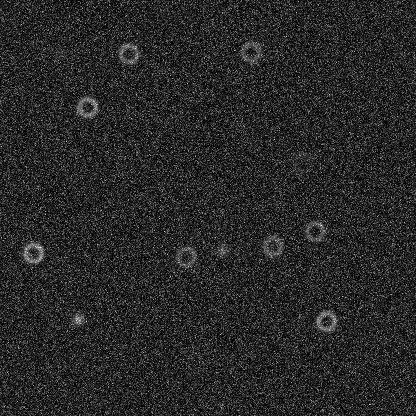Ring: (75, 94, 99, 118), (238, 39, 262, 63), (116, 41, 140, 65), (173, 244, 197, 268), (21, 240, 45, 264), (314, 309, 338, 333), (302, 219, 326, 243), (260, 233, 284, 257), (291, 150, 315, 174)
Spot: (213, 242, 229, 258), (70, 311, 86, 327), (50, 44, 66, 60)
